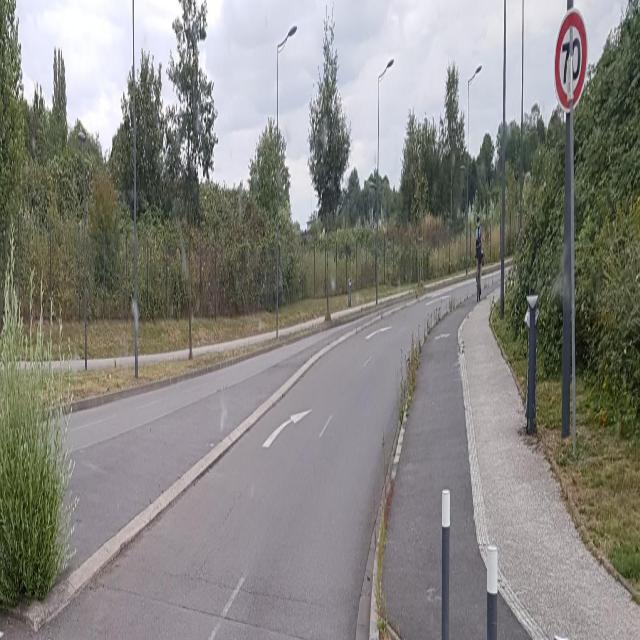speed_70: (554, 9, 588, 107)
